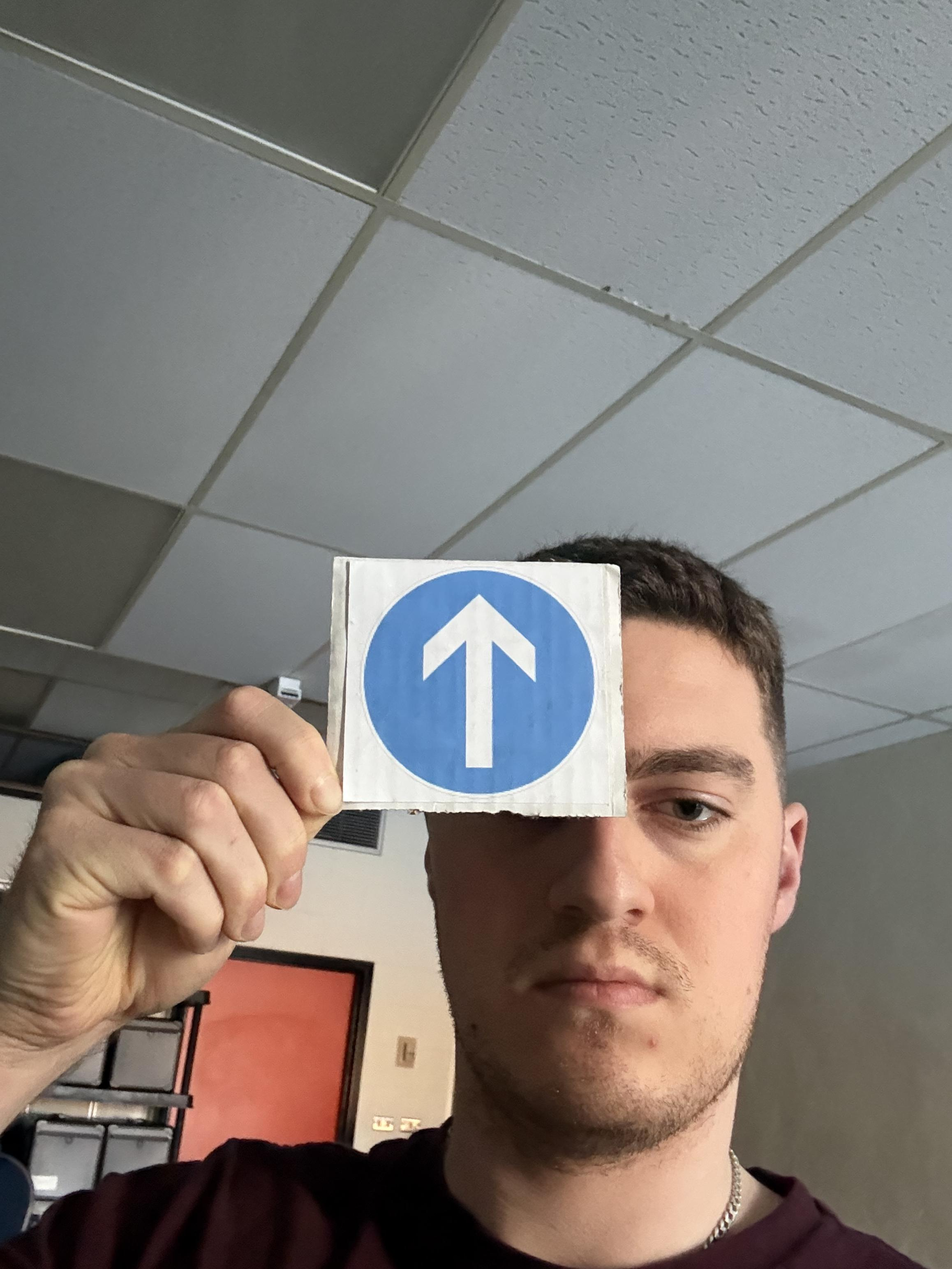Proceed Forward: (257, 748, 467, 1092)
